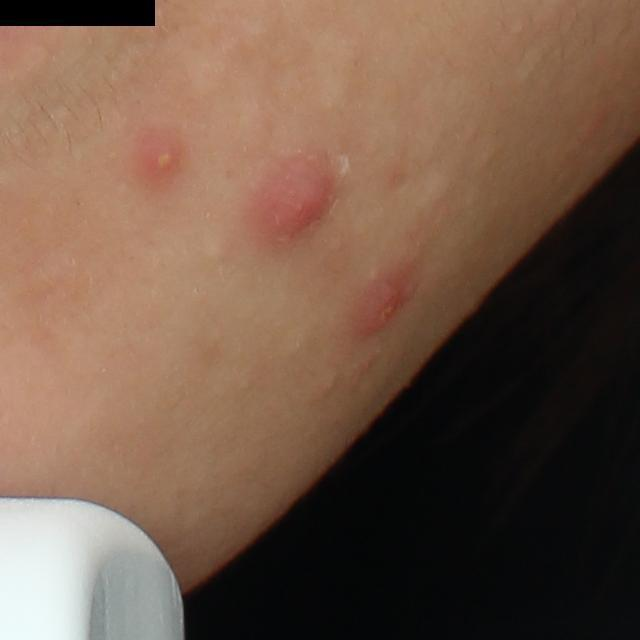papule: (257, 161, 342, 239), (351, 266, 413, 340)
pustule: (146, 135, 189, 179)
